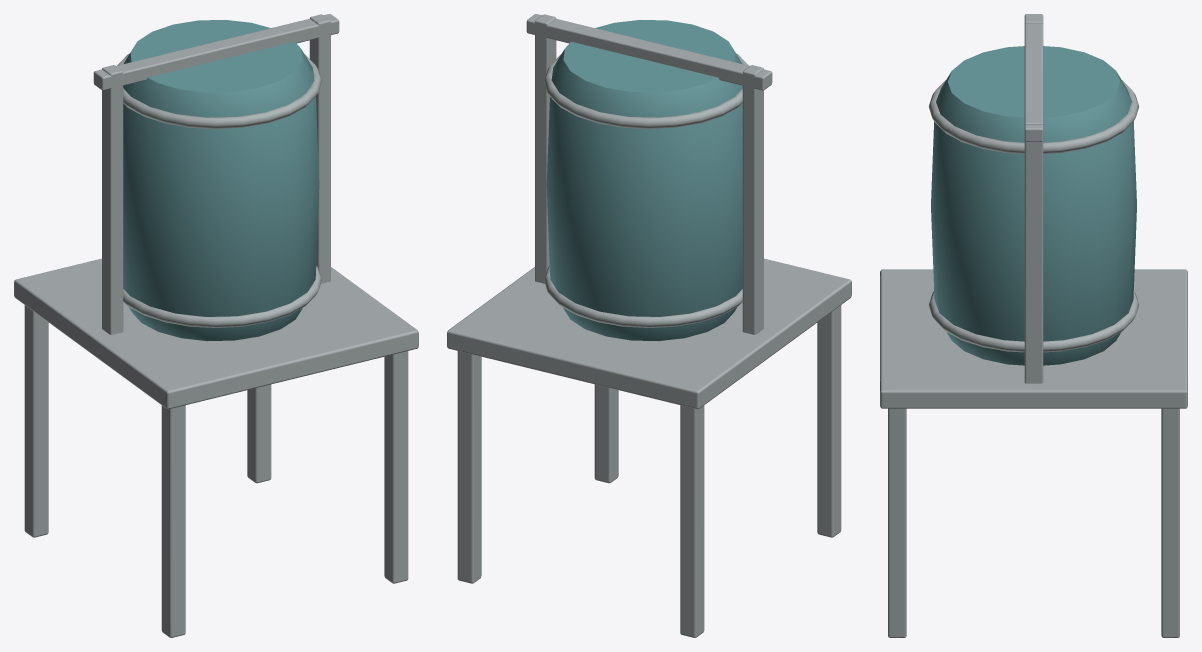
File: flooded-and-coastal-survival-raised-fuel-cradle-33080d20__20074.glb
3 views of the same model, side by side, from view 1: azimuth 30°, elevation 25°; view 2: azimuth 150°, elevation 25°; view 3: azimuth 270°, elevation 25° (orthographic).
Visible parts, largest first — view 1: raised-fuel-cradle; view 2: raised-fuel-cradle; view 3: raised-fuel-cradle.
Part boxes in pixels (x1,y1,x2,y2): raised-fuel-cradle: (14,14,418,637); raised-fuel-cradle: (447,14,851,637); raised-fuel-cradle: (880,14,1187,637).
Size of the model in its own units: 0.8501 by 1.65 by 0.9001.
